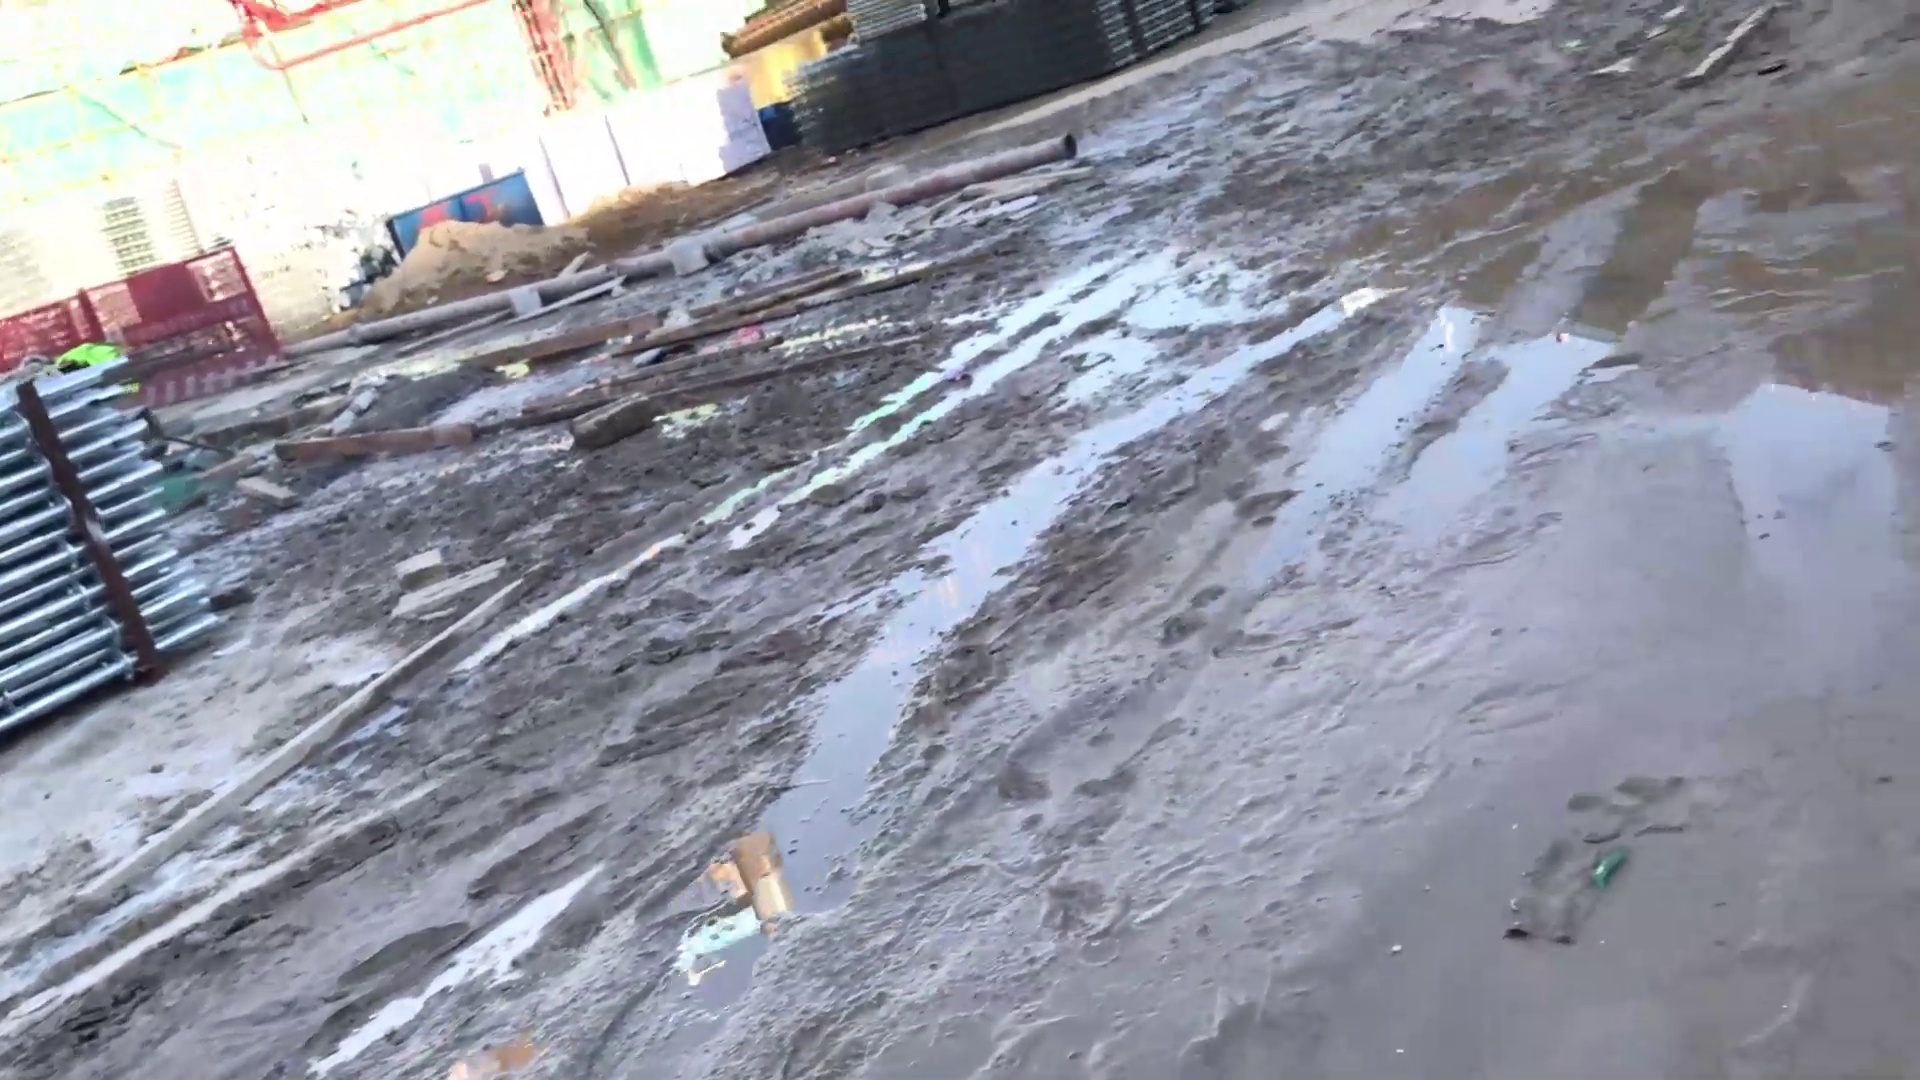fence: (91, 255, 277, 381)
hopper: (348, 148, 585, 272)
scaffold: (1, 331, 243, 757)
